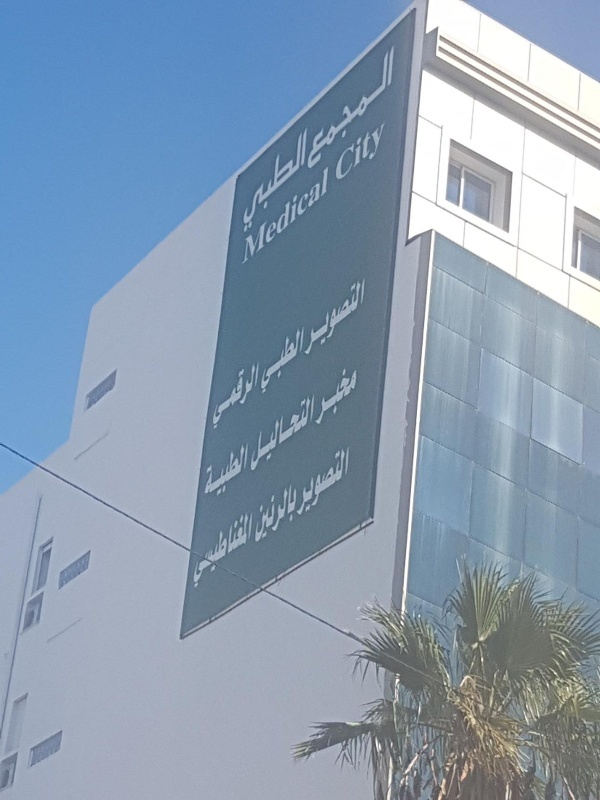text: (321, 40, 336, 178), (337, 40, 352, 178), (353, 40, 368, 178), (369, 40, 384, 178), (385, 40, 398, 178), (241, 124, 256, 236), (257, 124, 272, 236), (273, 124, 288, 236), (289, 124, 304, 236), (257, 163, 272, 270), (273, 163, 288, 270), (289, 163, 304, 270), (305, 163, 320, 270), (321, 269, 336, 362), (337, 269, 352, 362), (353, 269, 368, 362), (257, 390, 272, 476), (273, 390, 288, 476), (289, 390, 304, 476), (209, 506, 224, 592), (225, 506, 240, 592), (241, 506, 256, 592), (225, 349, 240, 434), (241, 349, 256, 434), (245, 163, 256, 270), (305, 443, 320, 520), (321, 443, 336, 520), (289, 325, 305, 396), (308, 269, 320, 362), (337, 443, 351, 520), (321, 163, 331, 270), (273, 325, 288, 396), (257, 477, 272, 547), (273, 477, 288, 547), (337, 116, 352, 186), (353, 116, 368, 186), (369, 116, 384, 186), (321, 361, 336, 429), (337, 361, 352, 429), (209, 438, 224, 506), (225, 438, 240, 506), (305, 390, 316, 476), (198, 506, 208, 592), (260, 325, 272, 396), (214, 349, 224, 434), (314, 40, 320, 178), (241, 438, 252, 506), (289, 477, 299, 547), (248, 390, 256, 476), (305, 124, 310, 236), (297, 443, 304, 520), (257, 349, 263, 434), (353, 361, 359, 429), (253, 477, 256, 547), (205, 438, 208, 506), (385, 116, 387, 186)
